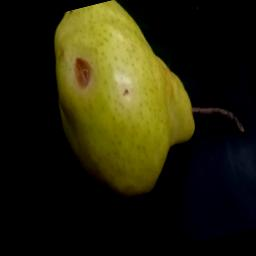Pear Rotten: (30, 0, 256, 223)
